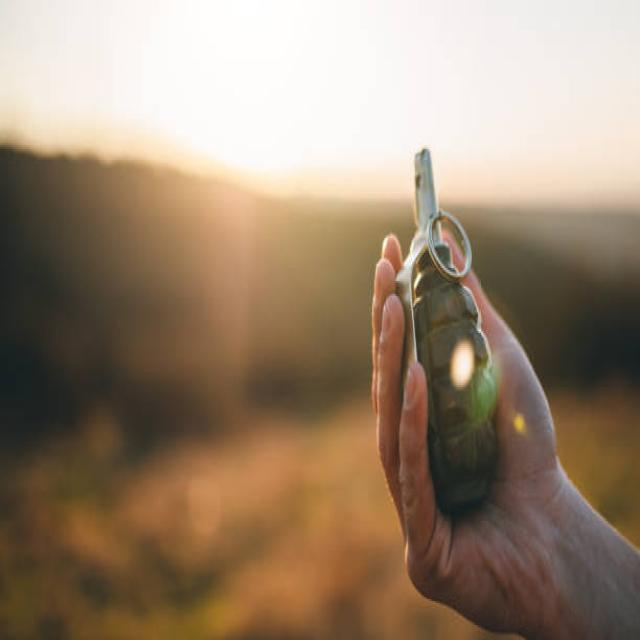grenade: (396, 146, 504, 516)
